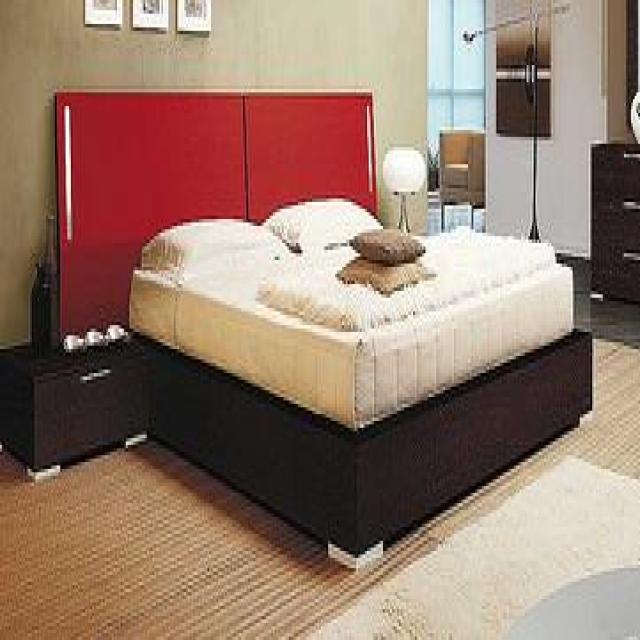bed: (131, 198, 586, 584)
